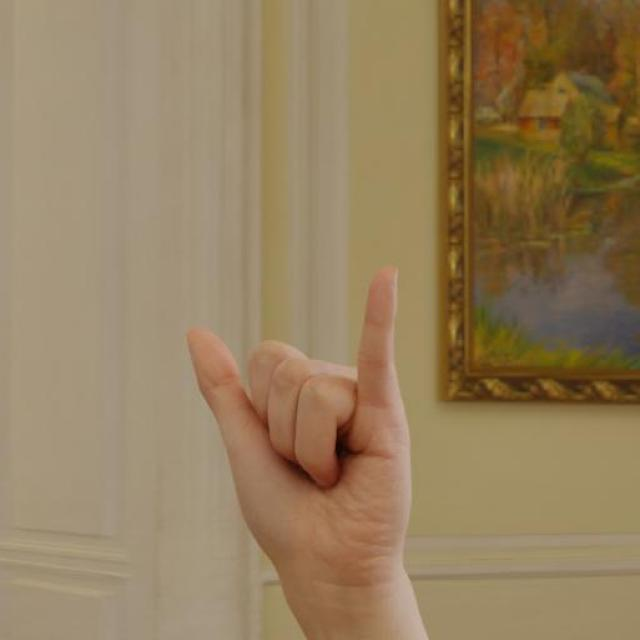Y: (114, 260, 447, 630)
